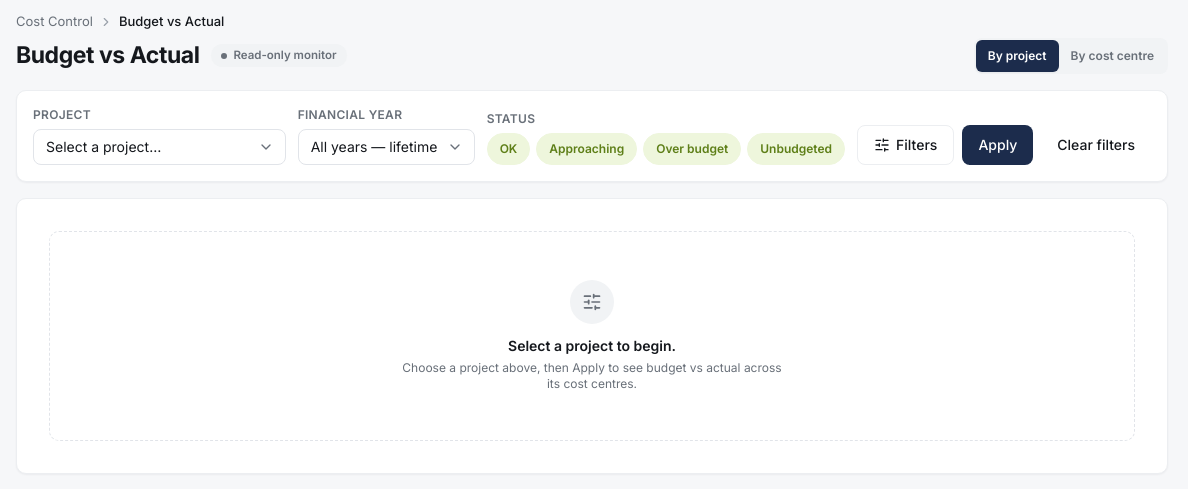
BudgetVsActualScreen — context gate + grouping (FR-CC-008) › switches to By cost centre mode — swaps the fixed selector and clears context
Expected: the element with test id "bva-pick-context" is shown, [17, 198, 1167, 472]
Step 1. Click the radio button with test id "bva-mode-cost_centre" → (1112, 56), box [1059, 40, 1166, 72]
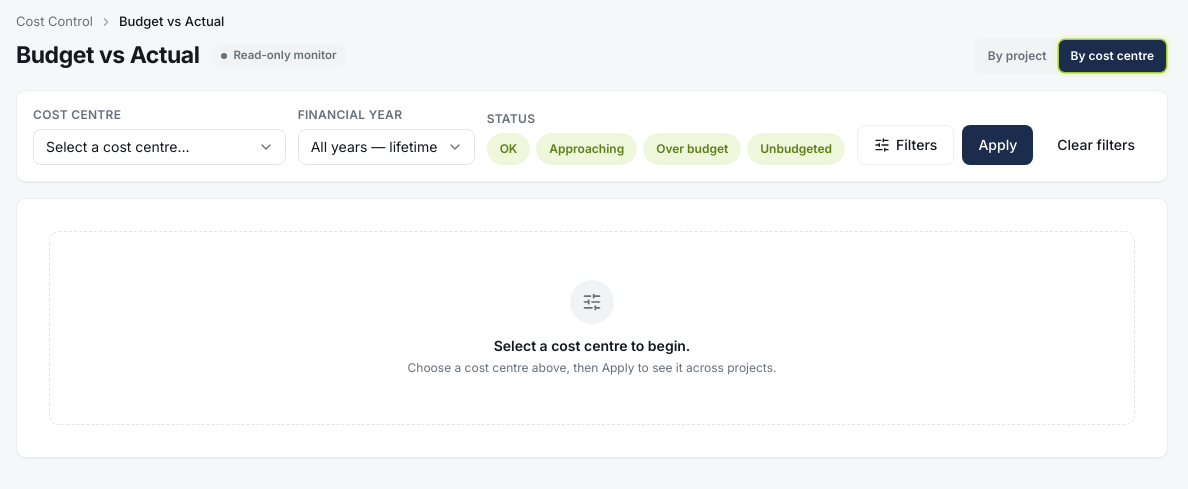
Expected: the element with test id "bva-pick-context" is shown, [17, 198, 1167, 456]
Expected: the dropdown with test id "bva-cost-centre" is shown, [33, 128, 286, 164]
Expected: the label with test id "bva-project" is gone
